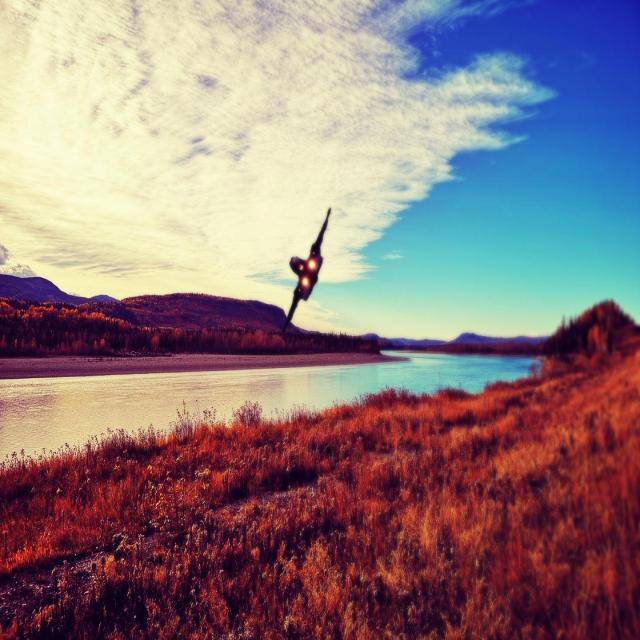airplane: (280, 206, 332, 335)
